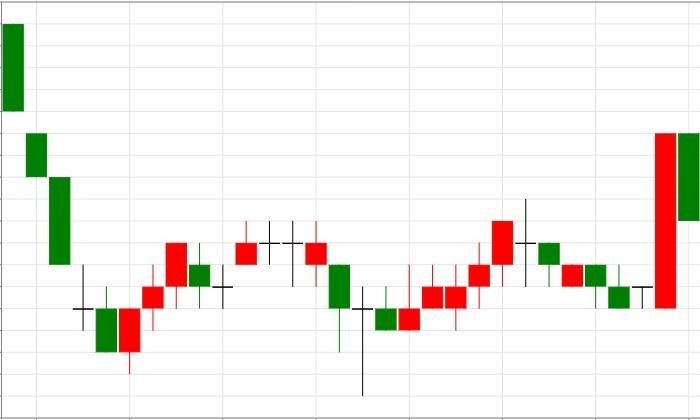three_white_soldiers_rise: (3, 23, 187, 374)
